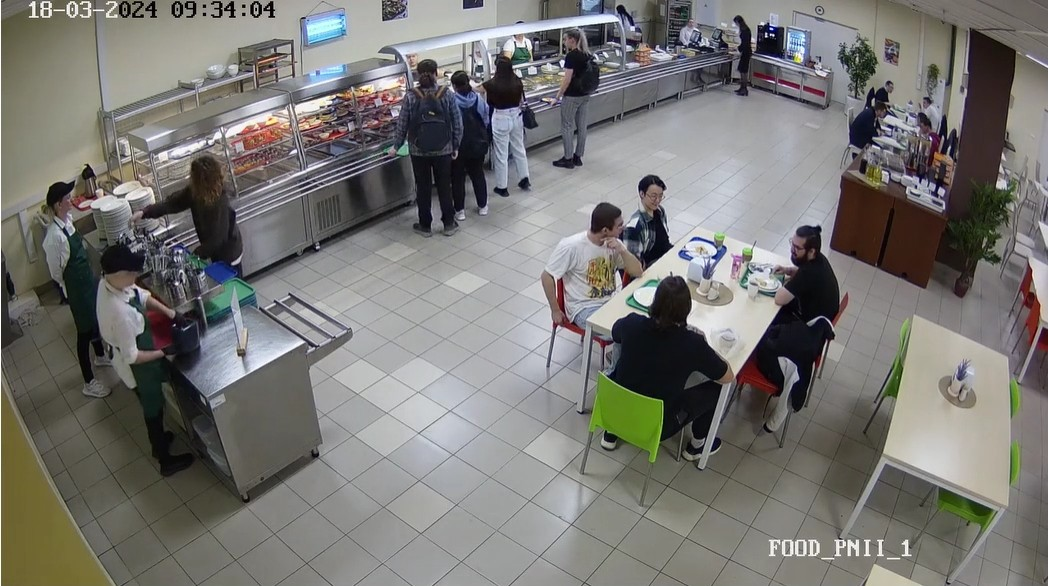Na_Kasse: (727, 11, 755, 95)
Personal: (86, 241, 199, 487), (28, 170, 101, 386), (500, 16, 538, 61), (608, 5, 644, 41), (679, 15, 710, 48), (465, 29, 485, 64), (399, 44, 422, 68)
Vybiraet: (118, 144, 261, 274), (378, 50, 460, 230), (484, 52, 541, 199), (547, 23, 594, 173), (441, 68, 487, 220)
Za_Stolom: (588, 262, 721, 501), (535, 204, 644, 380), (763, 216, 841, 359), (622, 166, 666, 247), (847, 94, 887, 156), (908, 116, 938, 158), (868, 78, 899, 109), (914, 90, 939, 123)
